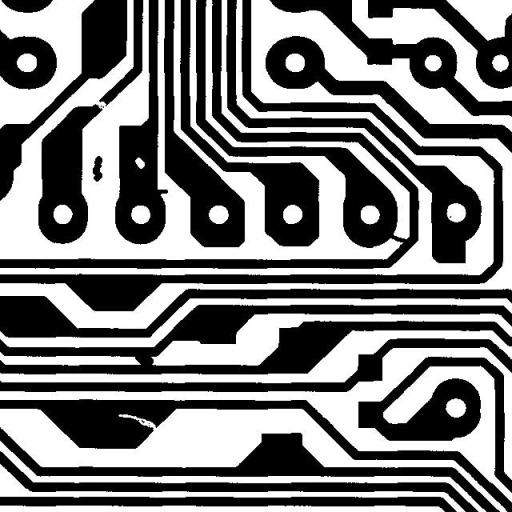copper: (84, 148, 110, 189)
mousebite: (110, 406, 164, 438)
open: (83, 91, 115, 119)
pin-hole: (127, 150, 152, 176)
short: (125, 339, 161, 374), (379, 223, 415, 251)
spur: (149, 182, 175, 202)
